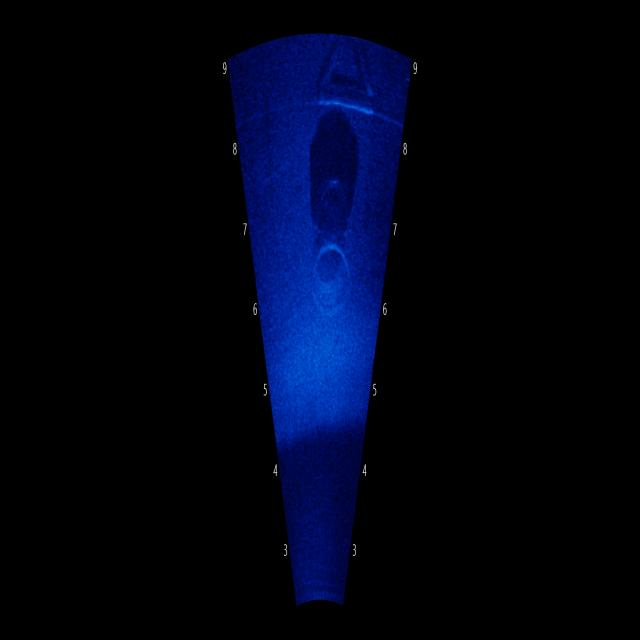circle: (301, 205, 363, 354)
triangle: (299, 40, 383, 124)
